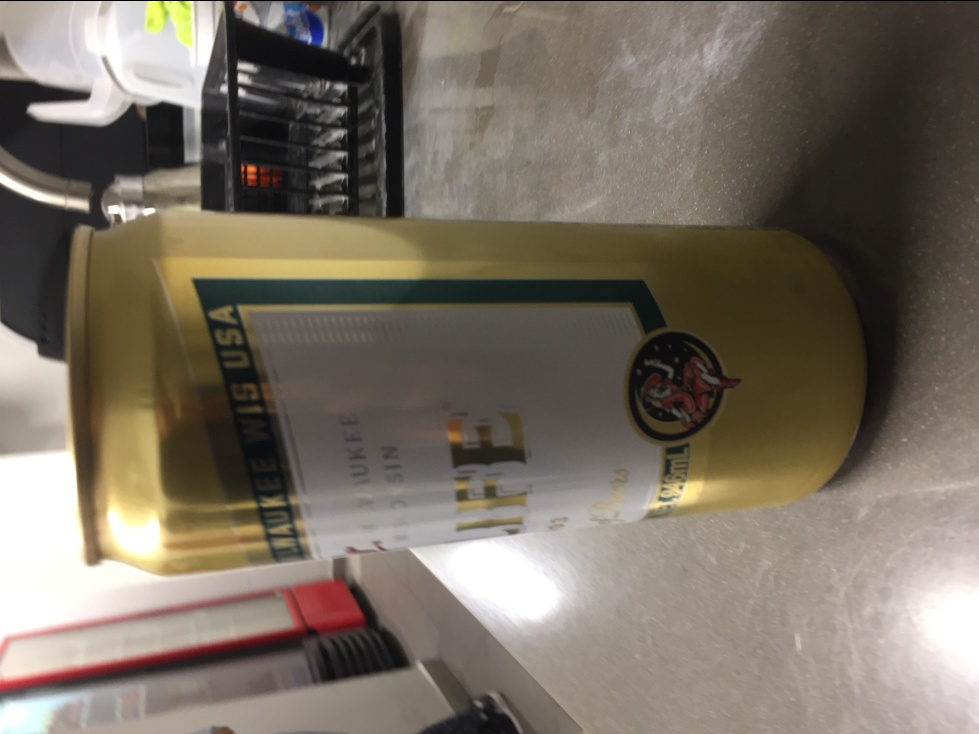miller: (60, 201, 884, 580)
